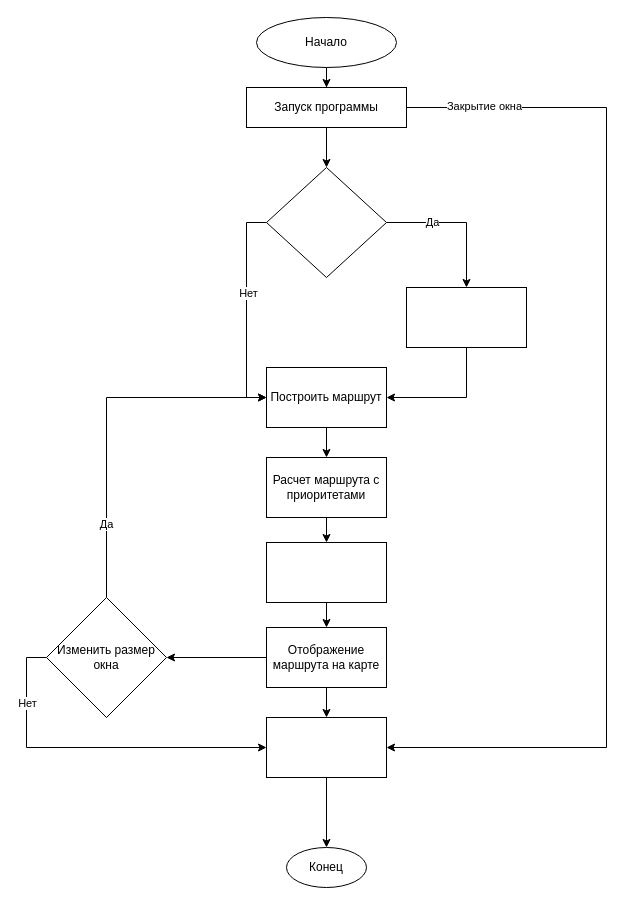
Image size: 632x905. Some labels were removed from this diagram. Here are the shapes that lost their labels. From the top down, the box of each, then its label:
(266, 166, 386, 278): Добавить/удалить заказы
(406, 286, 526, 348): Добавление или удаление заказов вручную
(266, 542, 386, 602): Проверка маршрута и стоимости
(266, 716, 386, 778): Закрыть окно
